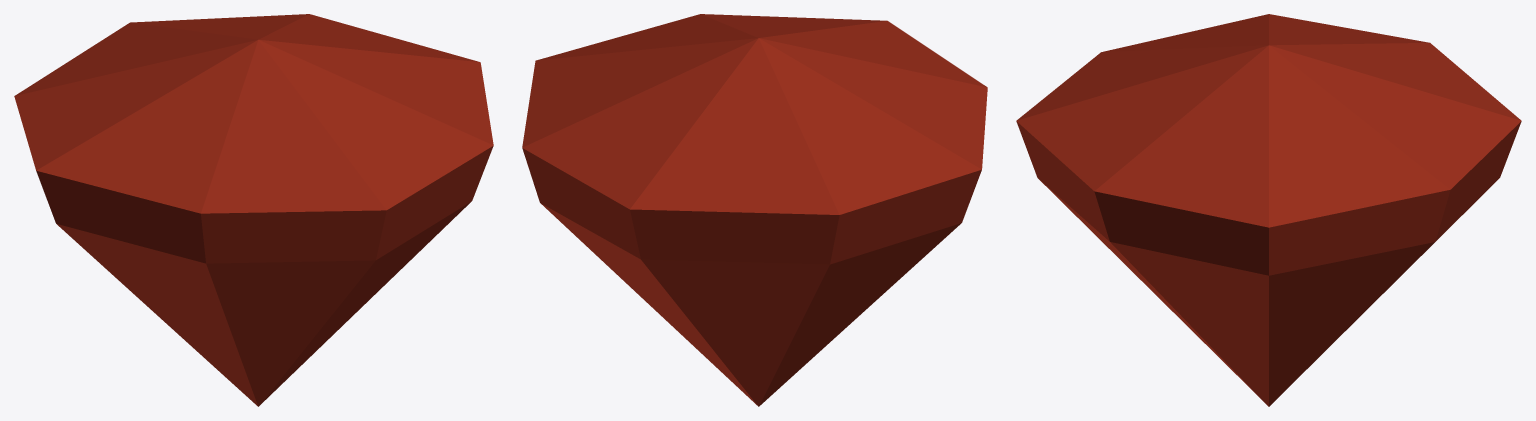
File: FireJewel.fbx
The picture shows the model from 3 angles, left to right: view 1: azimuth 30°, elevation 25°; view 2: azimuth 150°, elevation 25°; view 3: azimuth 270°, elevation 25°; orthographic projection.
Visible parts, largest first — view 1: Cube; view 2: Cube; view 3: Cube.
Part boxes in pixels (x1=…): Cube: x1=14, y1=14, x2=493, y2=406; Cube: x1=522, y1=14, x2=987, y2=406; Cube: x1=1016, y1=14, x2=1521, y2=406.
Size of the model in its own units: 200 by 158 by 200.
